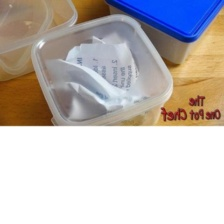plastic_box: (25, 9, 179, 125), (98, 0, 224, 68), (0, 0, 83, 87)
